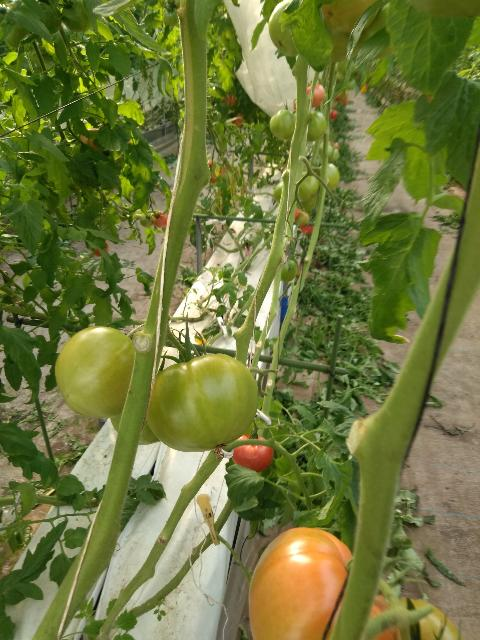b_fully_ripened: (230, 434, 273, 472)
b_green: (145, 353, 259, 452), (54, 326, 135, 418), (322, 0, 384, 34), (268, 0, 299, 57), (109, 412, 161, 445), (410, 0, 479, 18), (269, 109, 296, 140), (306, 111, 327, 143)
b_half_ripened: (248, 527, 398, 640), (384, 596, 463, 640)
